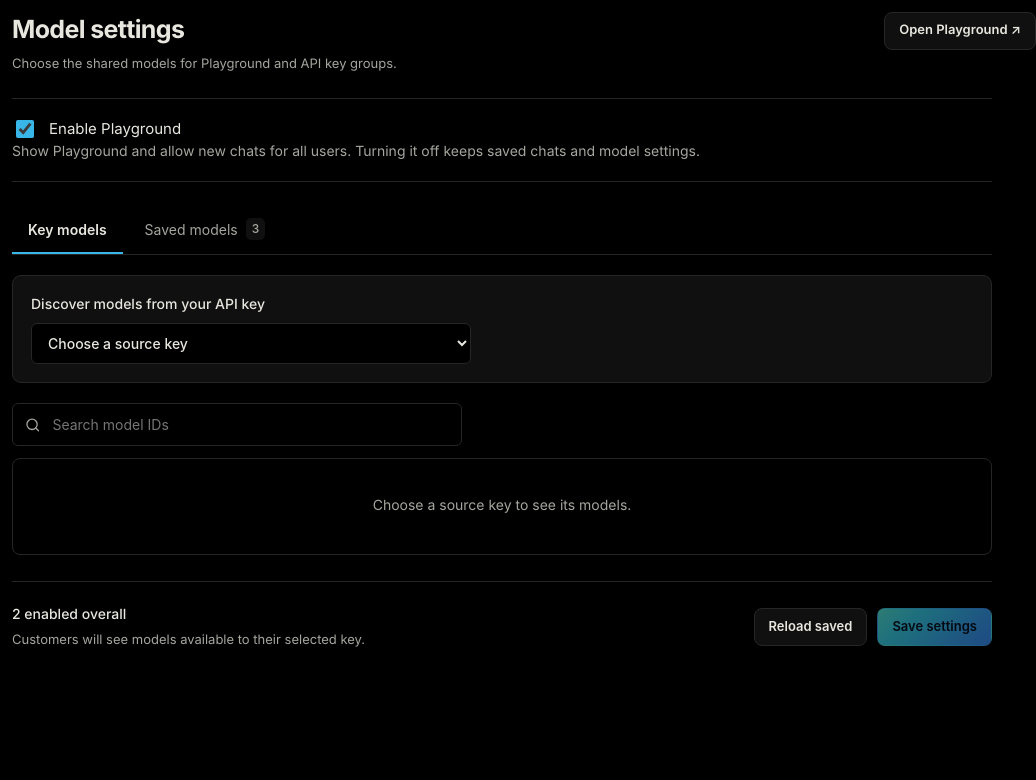
Test: admin model settings › starts with an explicit key choice and keeps saved models in their own tab
This screenshot has width=1036, height=780.
Select "First key" in the dropdown labelled "Discover models from your API key" at {"x": 251, "y": 344}, box x1=31 y1=323 x2=471 y2=364
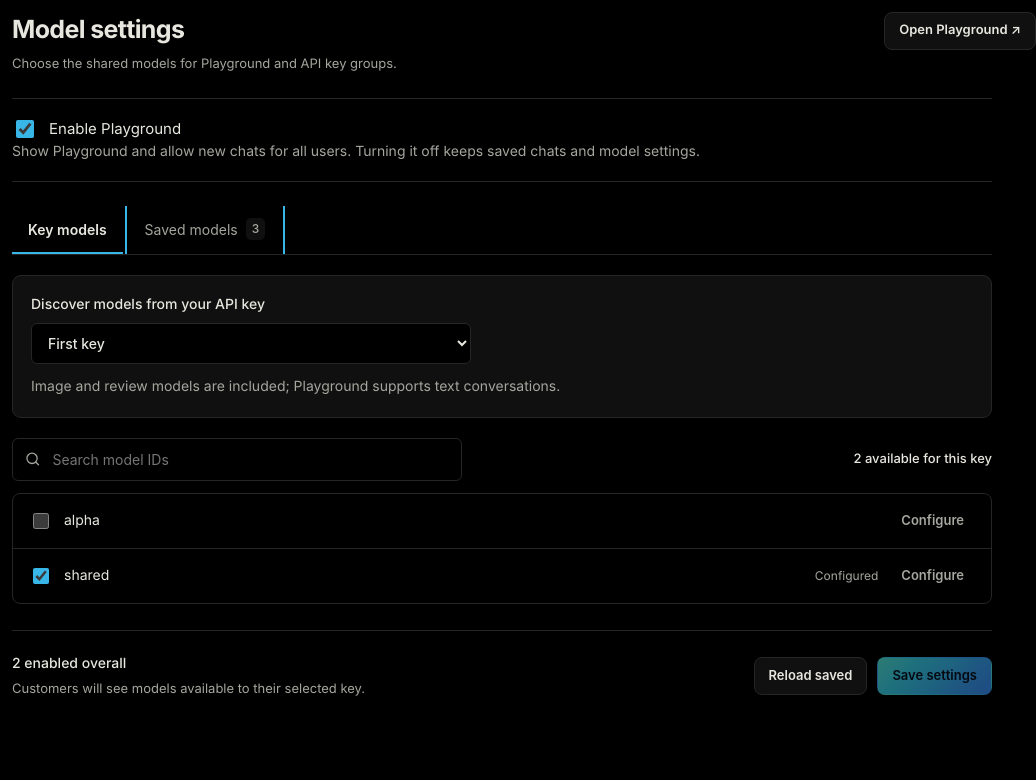
Expected: the text "2 enabled overall" is shown, x1=12 y1=655 x2=126 y2=672
Expected: the text "2 available for this key" is shown, x1=854 y1=450 x2=992 y2=469
Click the tab "Saved models 3".
click(205, 230)  # box x1=129 y1=206 x2=281 y2=254
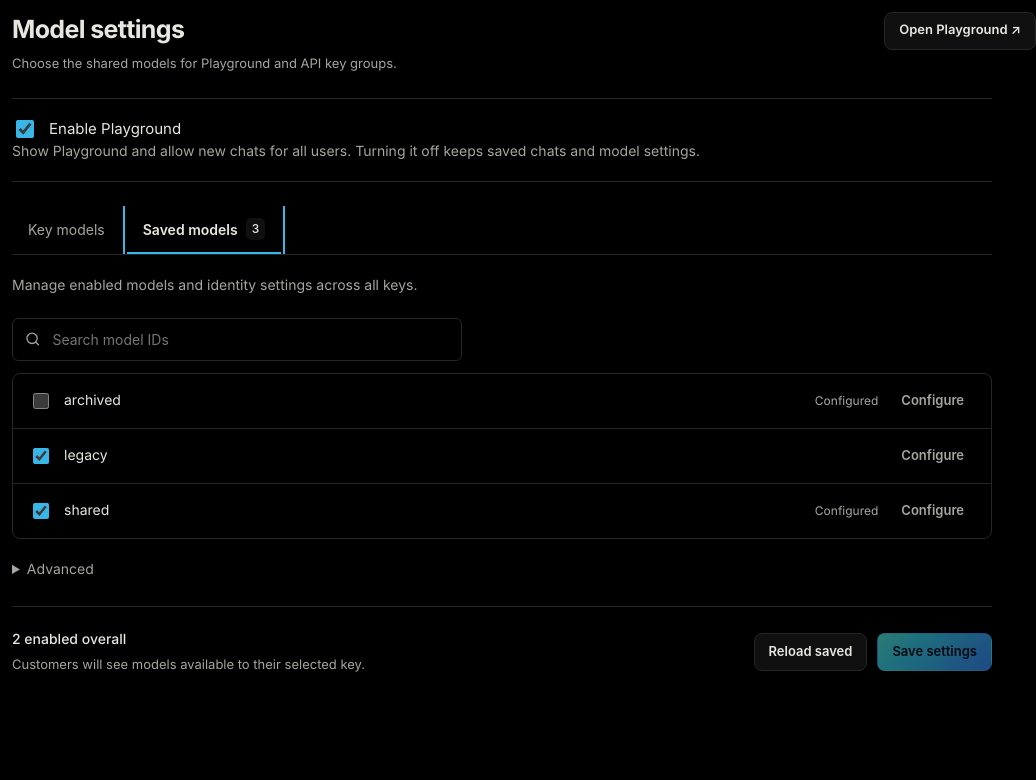
Expected: the checkbox labelled "archived" is not checked, x1=33 y1=393 x2=49 y2=409
Expected: the dropdown is gone
